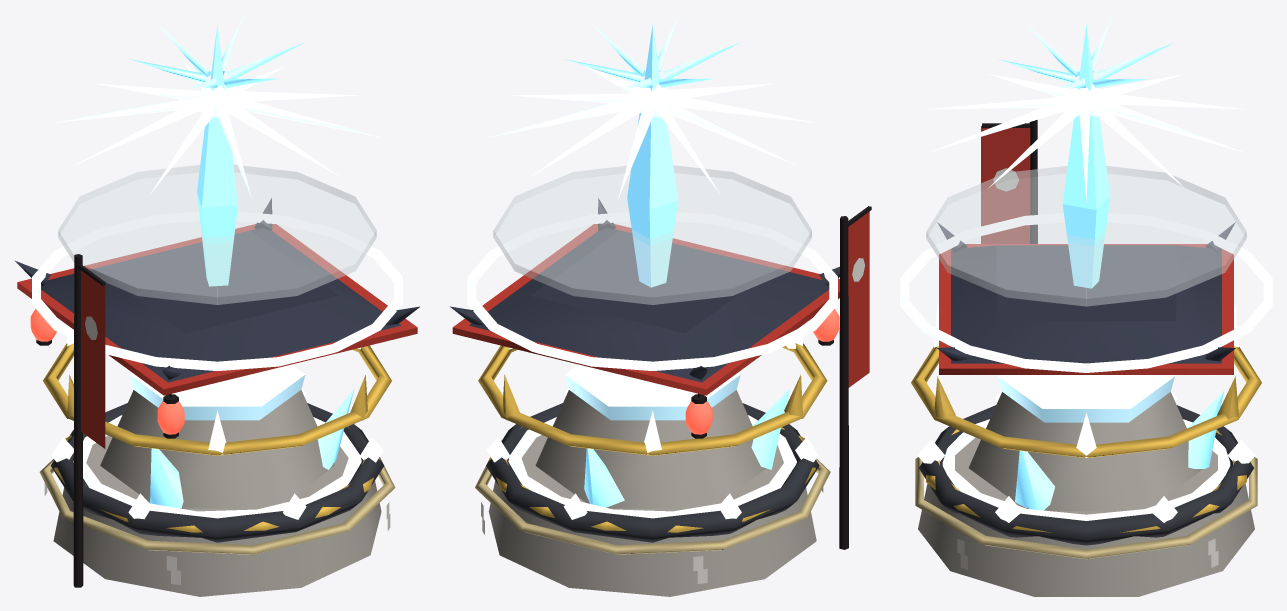
Rendered from tower_freeze_winter_ultimate.glb.
3 views of the same model, side by side, from view 1: azimuth 30°, elevation 25°; view 2: azimuth 150°, elevation 25°; view 3: azimuth 270°, elevation 25° (orthographic).
Visible parts, largest first — view 1: winter_mist, deco_eave_0_roof, base, pedestal, base_rim, ult_halo, deco_eave_0_rim, crystal, ult_crown_band, pedestal_frost, deco_shimenawa_rope, deco_nobori_cloth (+17 smaller); view 2: winter_mist, deco_eave_0_roof, base, pedestal, base_rim, ult_halo, crystal, deco_eave_0_rim, ult_crown_band, pedestal_frost, deco_shimenawa_rope, deco_nobori_cloth (+16 smaller); view 3: winter_mist, deco_eave_0_roof, base, pedestal, base_rim, ult_halo, pedestal_frost, crystal, ult_crown_band, deco_eave_0_rim, deco_nobori_cloth, deco_shimenawa_rope (+17 smaller).
Part boxes in pixels (bbox=[...]): winter_mist: bbox=[58, 164, 376, 304]; deco_eave_0_roof: bbox=[41, 228, 400, 382]; base: bbox=[53, 435, 381, 596]; pedestal: bbox=[100, 390, 334, 508]; base_rim: bbox=[50, 403, 384, 542]; ult_halo: bbox=[32, 211, 402, 370]; deco_eave_0_rim: bbox=[17, 224, 417, 395]; crystal: bbox=[197, 23, 237, 286]; ult_crown_band: bbox=[43, 343, 391, 455]; pedestal_frost: bbox=[129, 364, 305, 420]; deco_shimenawa_rope: bbox=[39, 457, 395, 554]; deco_nobori_cloth: bbox=[81, 270, 105, 448]; winter_mist: bbox=[493, 165, 811, 304]; deco_eave_0_roof: bbox=[469, 228, 829, 382]; base: bbox=[488, 435, 816, 596]; pedestal: bbox=[535, 390, 765, 508]; base_rim: bbox=[486, 403, 819, 542]; ult_halo: bbox=[467, 212, 837, 370]; crystal: bbox=[627, 24, 678, 287]; deco_eave_0_rim: bbox=[452, 224, 839, 395]; ult_crown_band: bbox=[478, 343, 827, 455]; pedestal_frost: bbox=[565, 364, 740, 420]; deco_shimenawa_rope: bbox=[475, 440, 830, 554]; deco_nobori_cloth: bbox=[848, 211, 869, 387]; winter_mist: bbox=[926, 166, 1246, 306]; deco_eave_0_roof: bbox=[951, 245, 1221, 363]; base: bbox=[918, 437, 1254, 596]; pedestal: bbox=[968, 392, 1202, 511]; base_rim: bbox=[919, 405, 1253, 545]; ult_halo: bbox=[900, 213, 1272, 372]; pedestal_frost: bbox=[998, 375, 1174, 422]; crystal: bbox=[1062, 24, 1110, 375]; ult_crown_band: bbox=[911, 346, 1261, 457]; deco_eave_0_rim: bbox=[939, 244, 1233, 374]; deco_nobori_cloth: bbox=[981, 126, 1030, 243]; deco_shimenawa_rope: bbox=[915, 457, 1257, 559].
Bounding box in the file's own units: 0.4427 × 0.64 × 0.4274.
